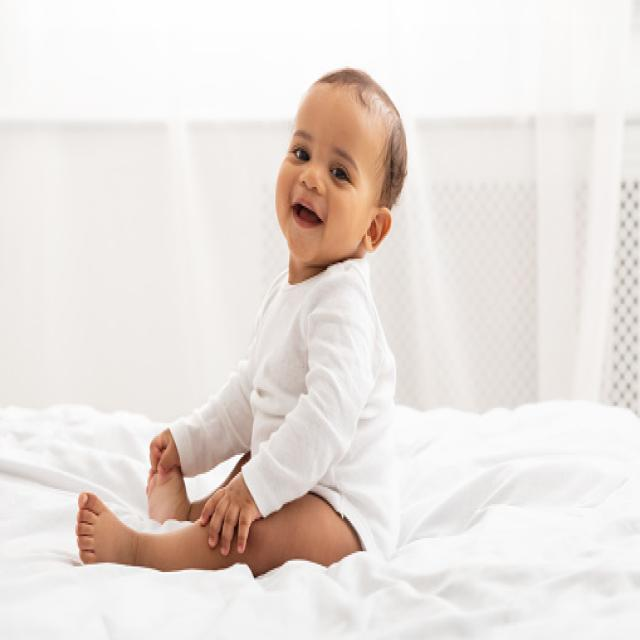non-dog: (74, 60, 422, 579)
